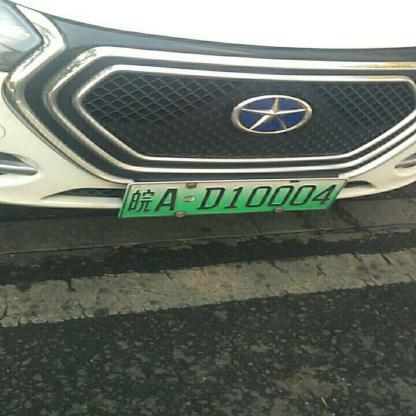lp: (118, 179, 347, 218)
